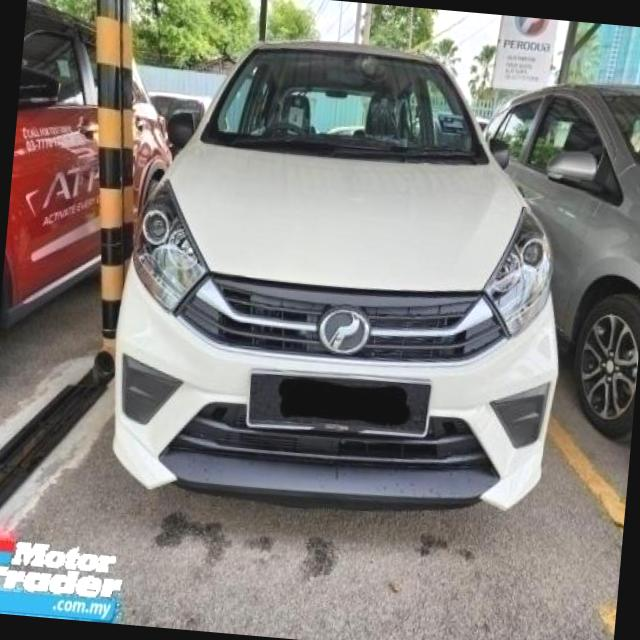PeroduaAxia: (99, 22, 586, 526)
